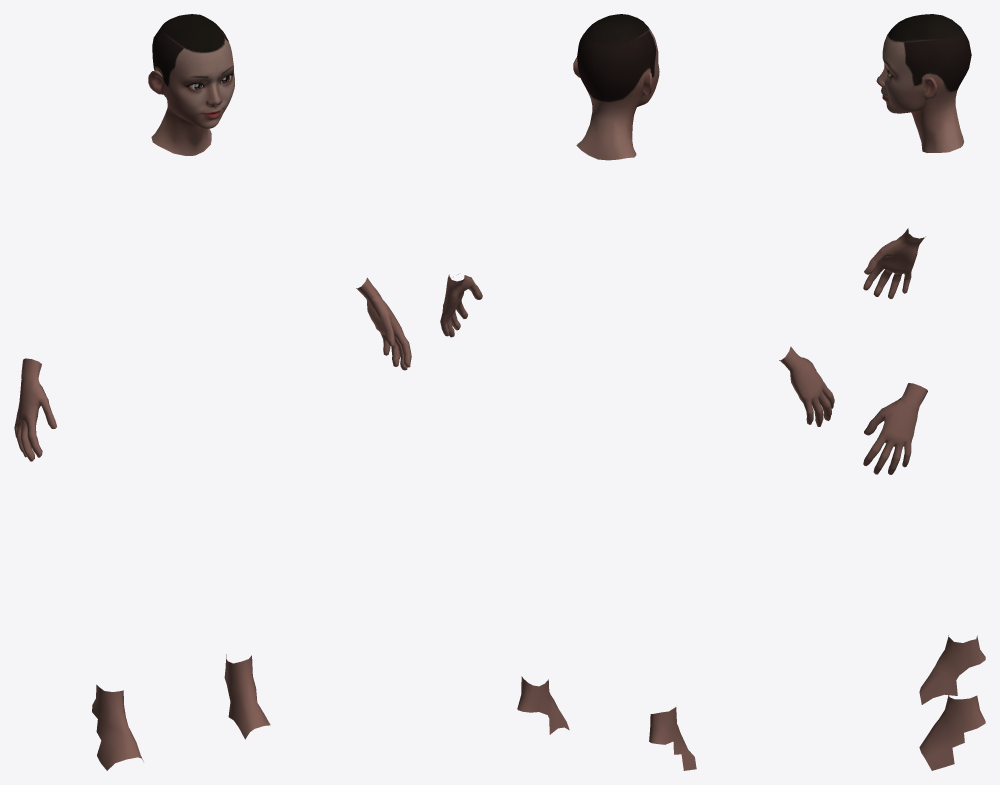
File: femalehead3.glb
3 views of the same model, side by side, from view 1: azimuth 30°, elevation 25°; view 2: azimuth 150°, elevation 25°; view 3: azimuth 270°, elevation 25° (orthographic). The views are drawn at different scales.
Visible parts, largest first — view 1: Wolf3D_Head, Wolf3D_Body; view 2: Wolf3D_Head, Wolf3D_Body; view 3: Wolf3D_Body, Wolf3D_Head.
Part boxes in pixels (x1,y1,x2,y2): Wolf3D_Head: (148, 14, 234, 155); Wolf3D_Body: (14, 277, 411, 770); Wolf3D_Head: (573, 14, 659, 160); Wolf3D_Body: (440, 274, 834, 770); Wolf3D_Body: (863, 228, 985, 770); Wolf3D_Head: (876, 14, 971, 152).
Size of the model in its own units: 0.9279 by 1.69 by 0.2623.
Materials: 3 (3 with a texture image).
